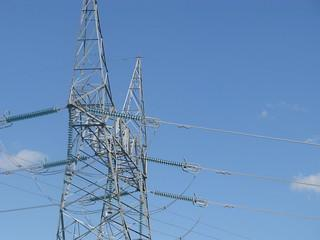power_tower: (51, 0, 164, 240)
